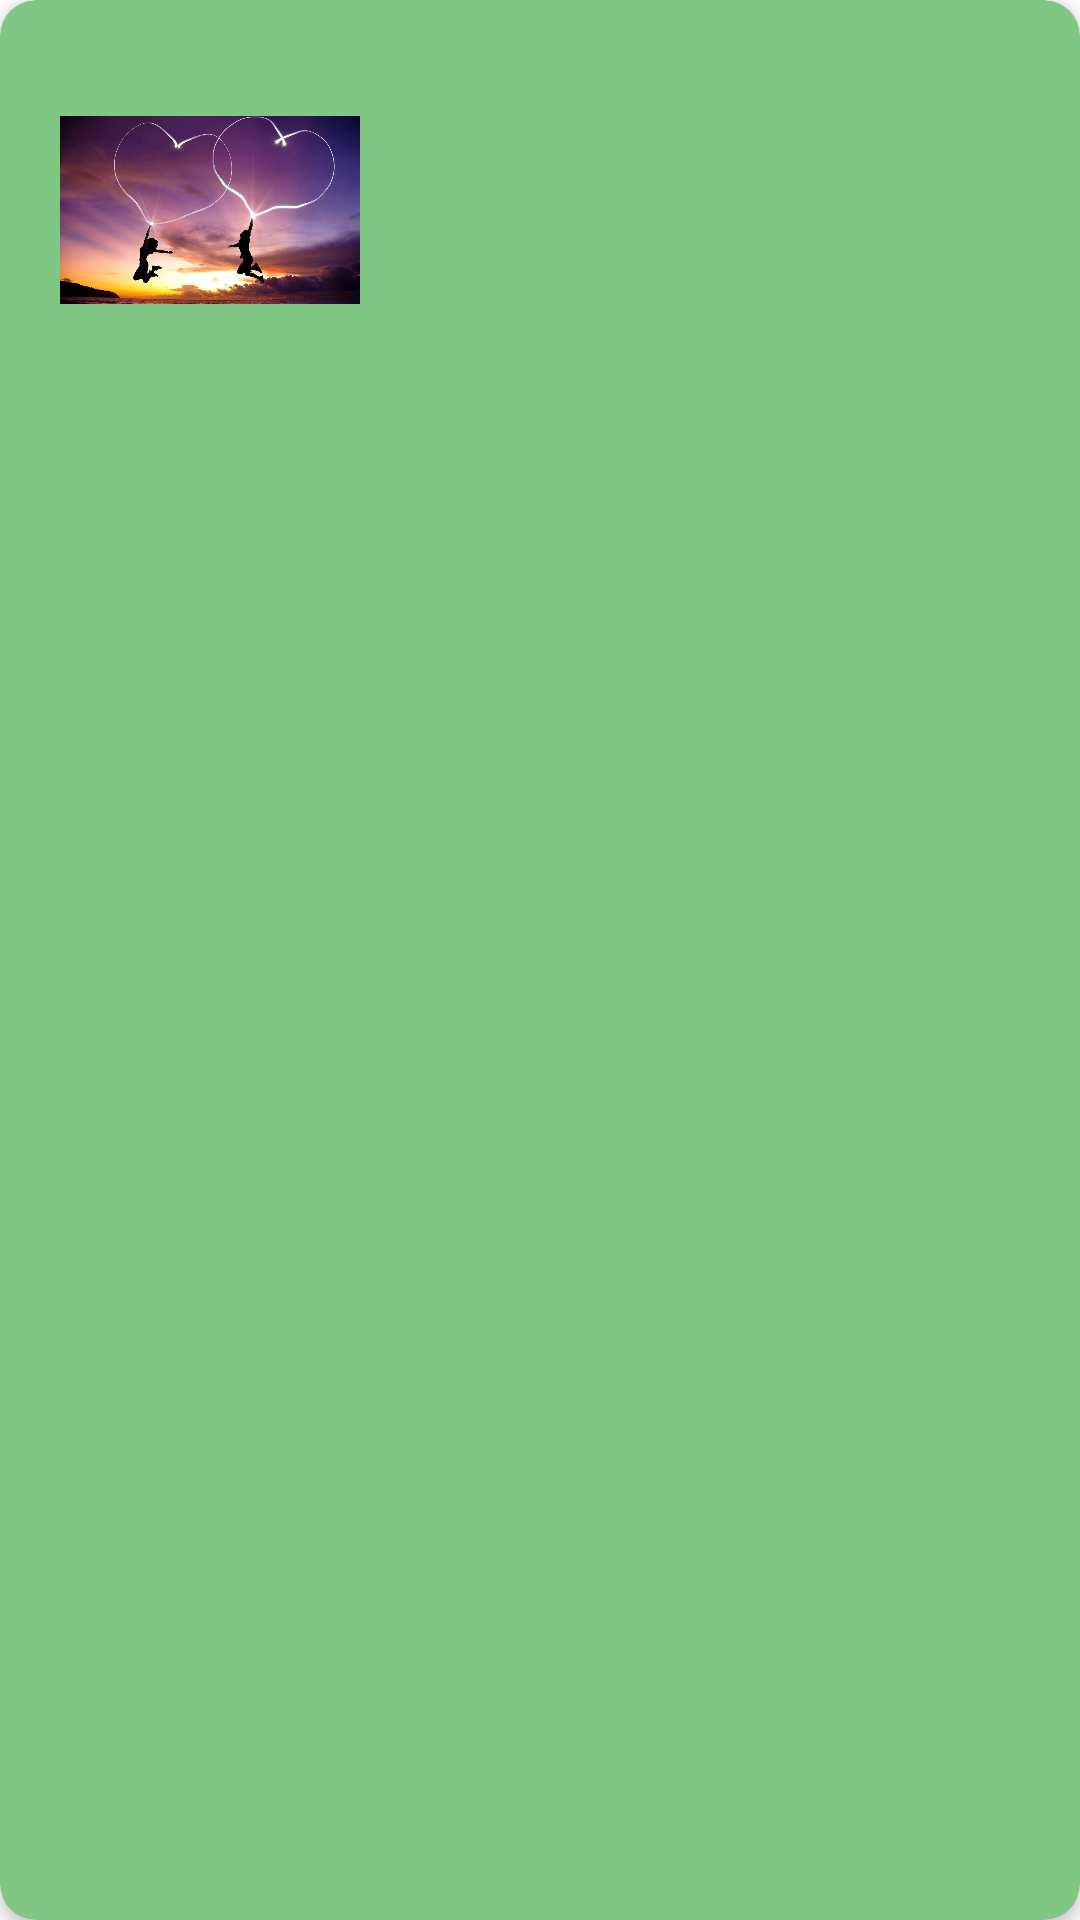

Where icons sit on this 1080px×1920px app screen, as {"left": x1, "top": y1, "right": x2, "bottom": y2}:
gambar: {"left": 60, "top": 116, "right": 360, "bottom": 304}
